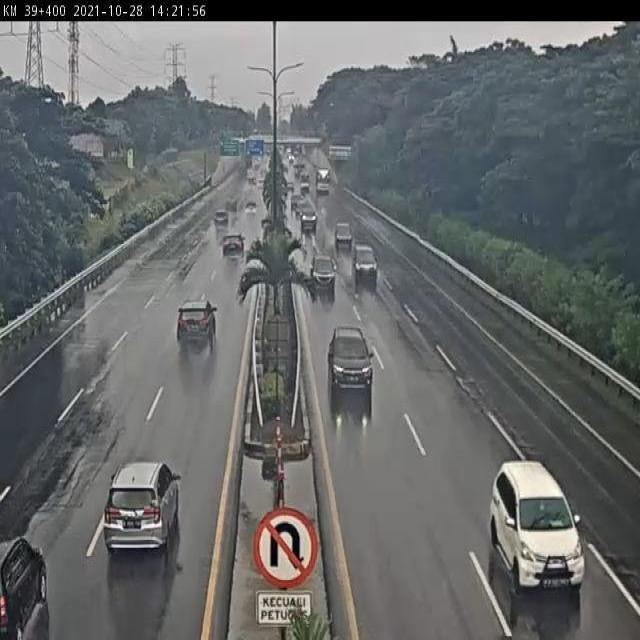car: (477, 462, 592, 598), (99, 460, 184, 557), (0, 521, 53, 640), (322, 324, 381, 404), (176, 299, 215, 352), (306, 251, 340, 301), (352, 245, 385, 291), (218, 231, 247, 269), (328, 218, 354, 250), (299, 206, 319, 233), (210, 208, 230, 227)
